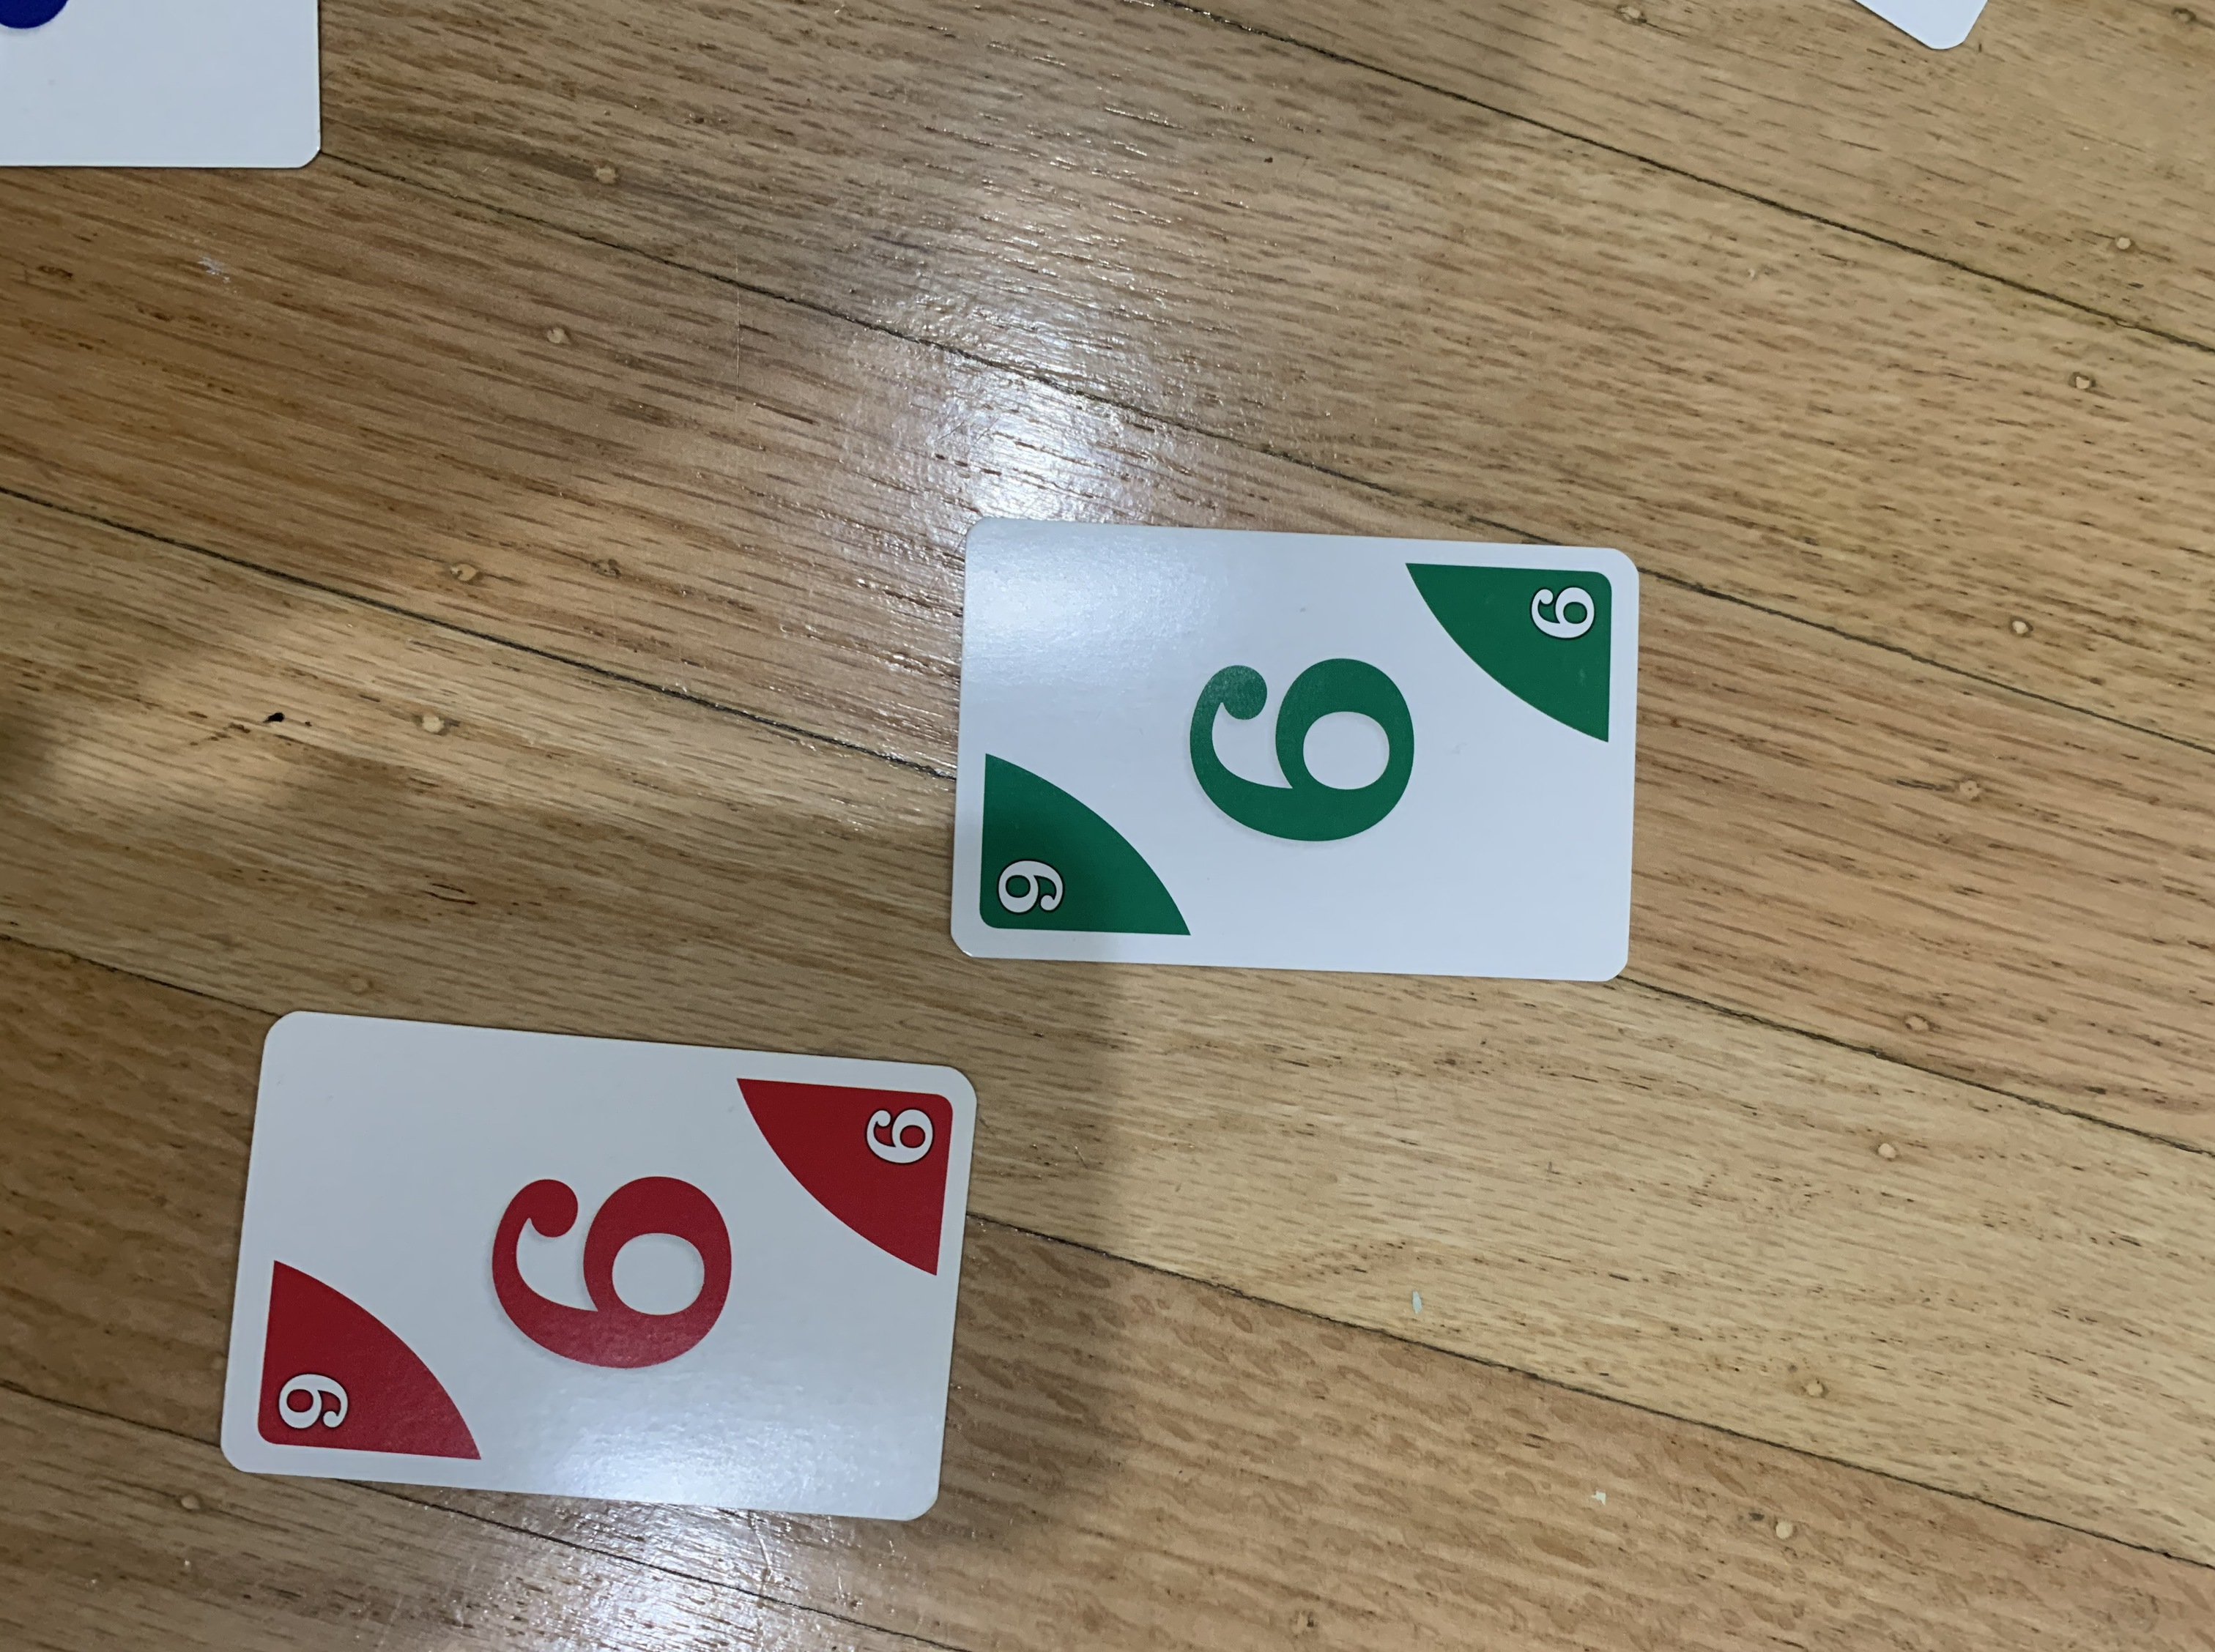nine: (191, 1003, 989, 1539), (932, 507, 1658, 1000)
